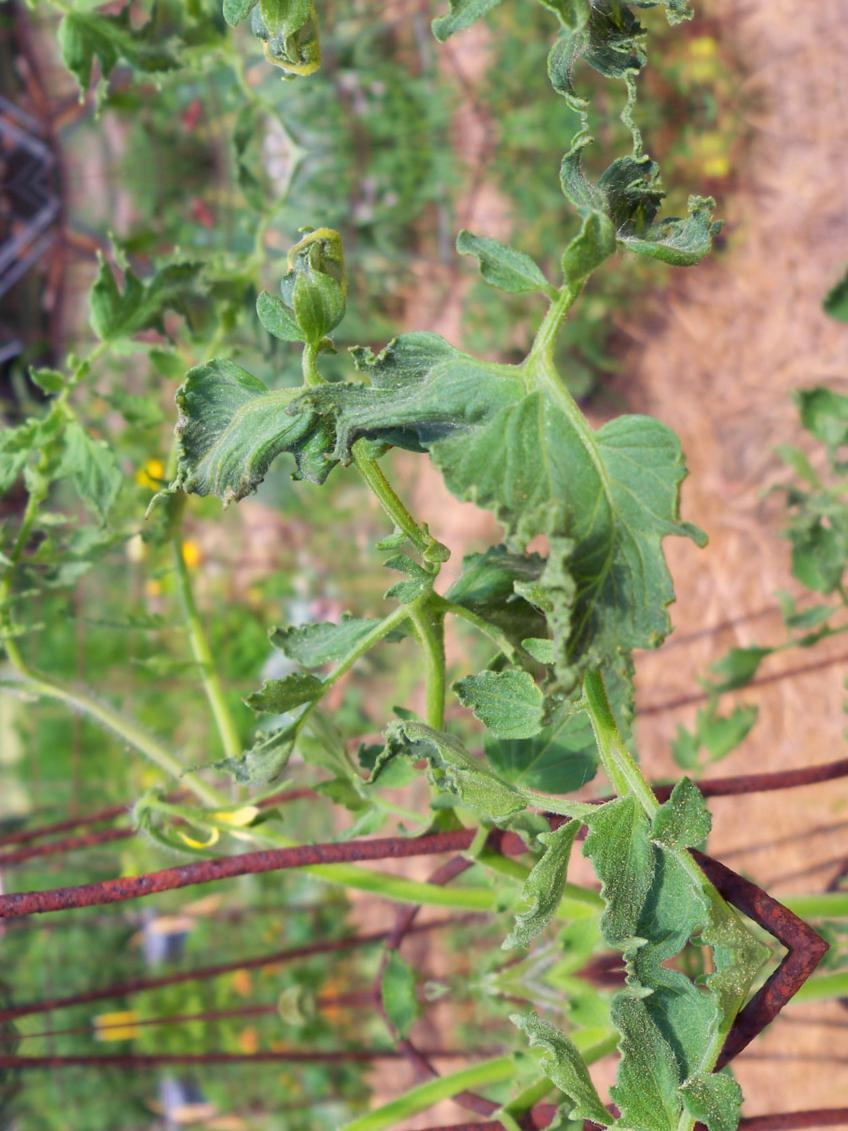Tomato leaf mosaic virus: (419, 340, 704, 673), (126, 315, 554, 521), (520, 104, 748, 294), (573, 777, 739, 960), (447, 657, 551, 753), (254, 606, 392, 673)
